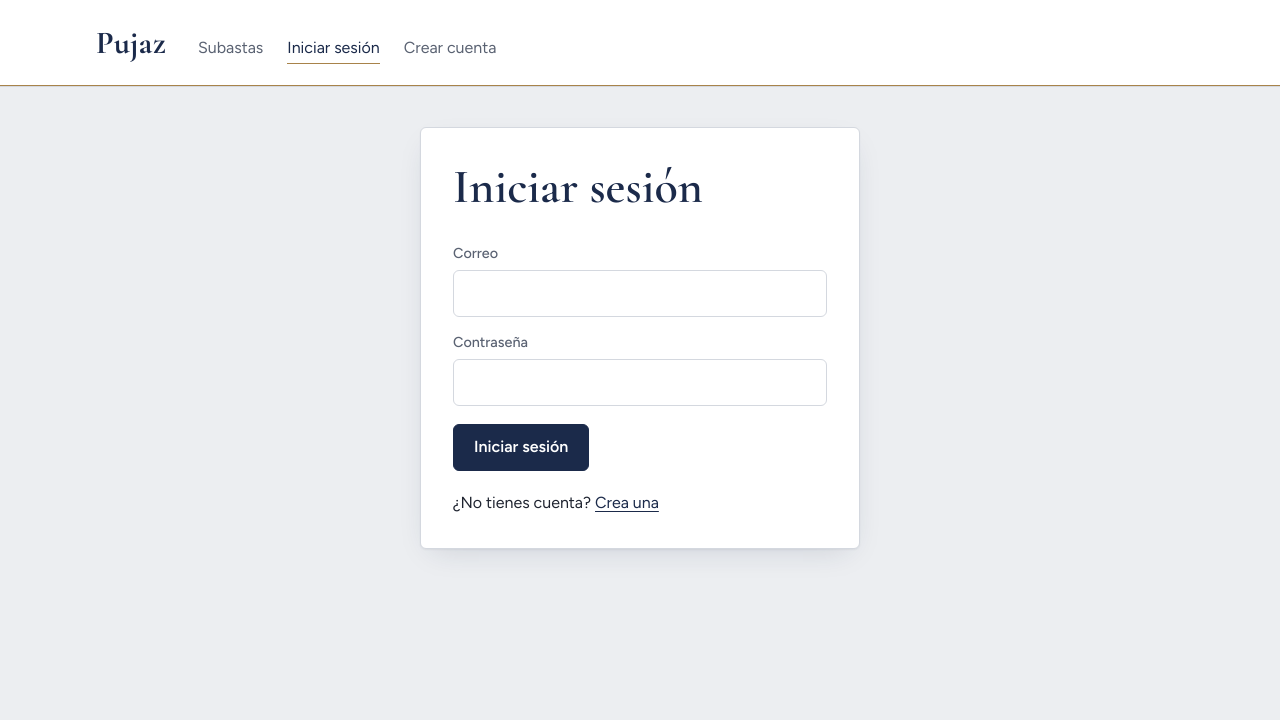
Test case: LoginPage › muestra un mensaje si el correo o la contraseña están mal
The width and height of the screenshot is (1280, 720).
Type "ana@correo.com" into the field labelled "Correo" at (640, 294), box x1=453 y1=270 x2=827 y2=317
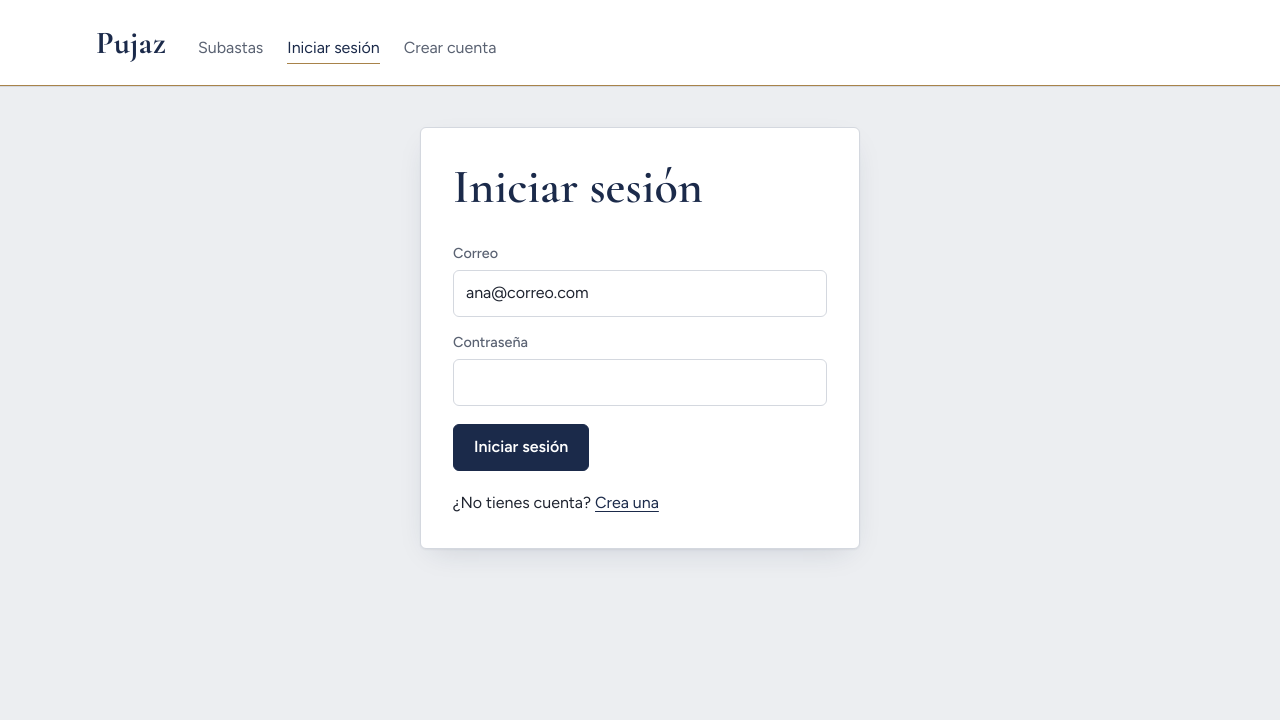
Type "malamala" into the password field labelled "Contraseña" at (640, 383), box x1=453 y1=359 x2=827 y2=406
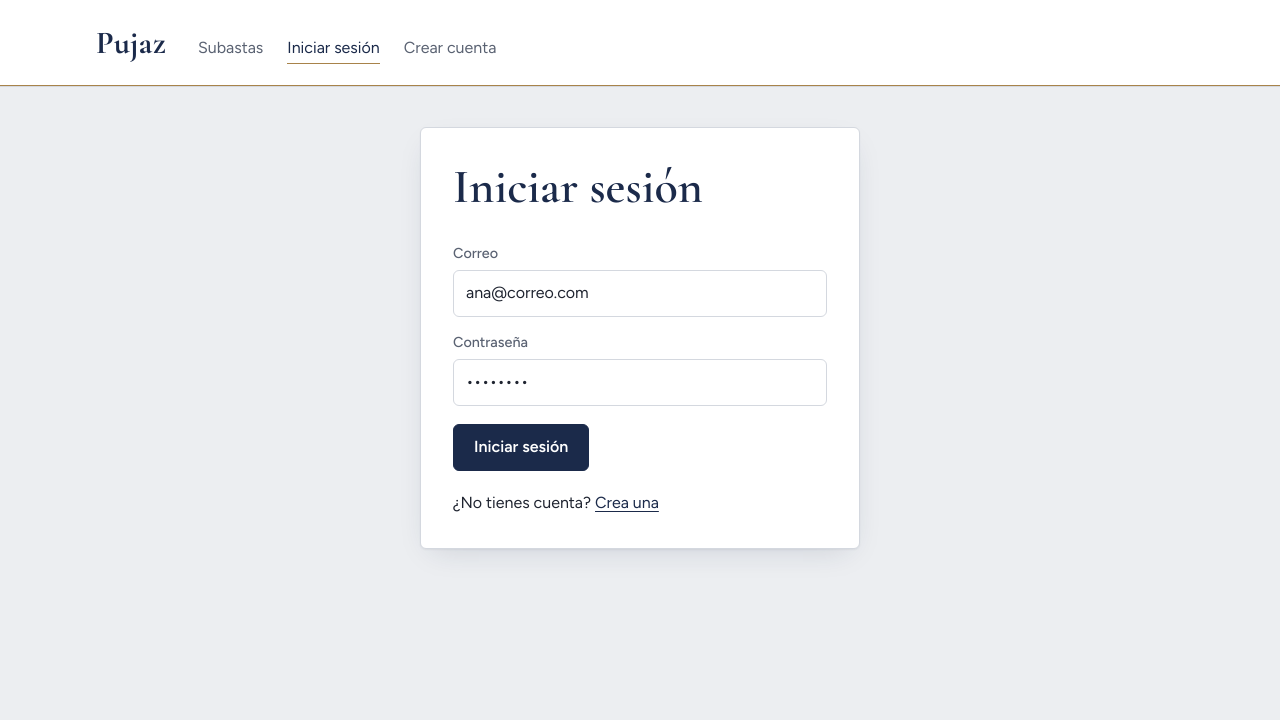
Click the button "Iniciar sesión" at (521, 448), box x1=453 y1=424 x2=589 y2=471
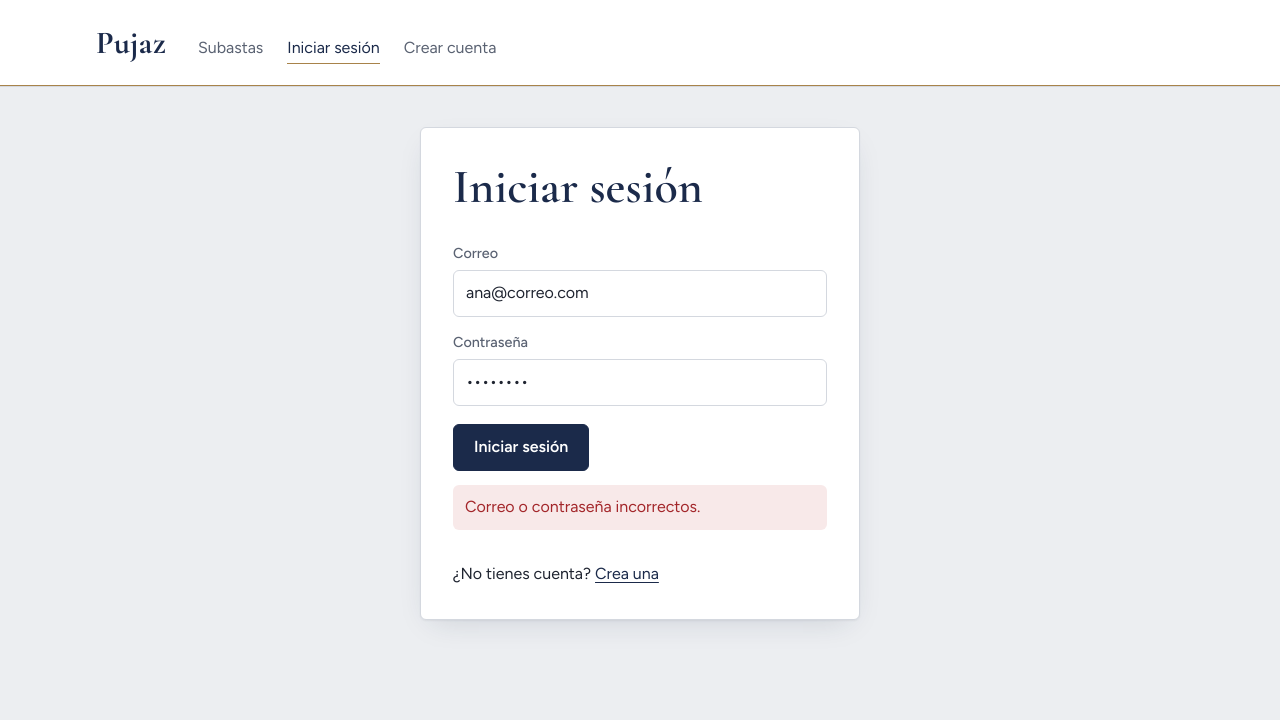
Result: the message reads "Correo o contraseña incorrectos." at x1=465 y1=497 x2=700 y2=516
